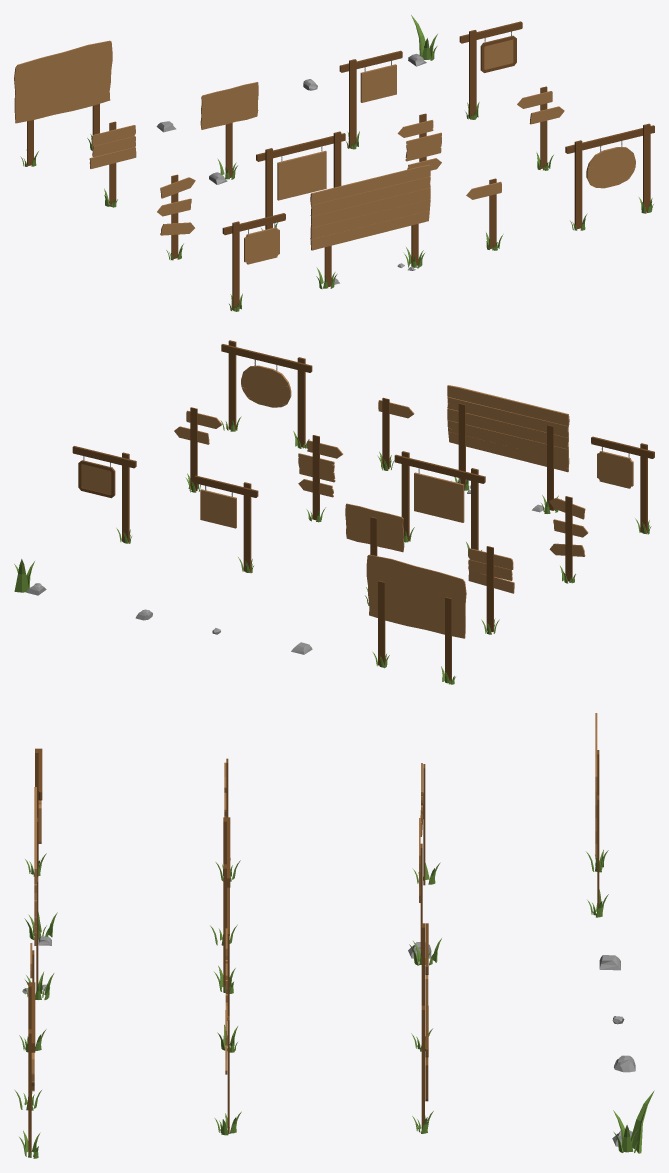
File: lowpoly_wooden_signs.glb
3 renders of one model, top to bottom at view 1: azimuth 30°, elevation 25°; view 2: azimuth 150°, elevation 25°; view 3: azimuth 270°, elevation 25°, orthographic. The views are drawn at different scales.
Visible parts, largest first — view 1: Sign12, Sign8, Sign2, Sign4, Sign11, Sign9, Sign10, Sign13, Sign7, Sign3, Sign5, Sign6 (+2 smaller); view 2: Sign12, Sign8, Sign4, Sign2, Sign9, Sign10, Sign13, Sign11, Sign7, Sign5, Sign3, Sign6 (+2 smaller); view 3: Sign12, Sign2, Sign4, Sign8, Sign10, rock_2, Sign11, Sign9, Sign6, Sign13, Sign7, Sign5.
Boxes of the visible parts, x1,y1,x2,y2 form: Sign12: (310, 164, 430, 289); Sign8: (14, 40, 112, 166); Sign2: (565, 123, 654, 230); Sign4: (256, 131, 345, 230); Sign11: (200, 82, 258, 184); Sign9: (339, 50, 402, 149); Sign10: (459, 21, 522, 119); Sign13: (222, 213, 285, 311); Sign7: (89, 121, 136, 207); Sign3: (157, 174, 195, 260); Sign5: (397, 113, 441, 170); Sign6: (517, 86, 564, 170); Sign12: (447, 385, 569, 513); Sign8: (366, 554, 466, 684); Sign4: (394, 451, 485, 556); Sign2: (220, 340, 312, 448); Sign9: (194, 475, 258, 573); Sign10: (72, 446, 136, 543); Sign13: (591, 436, 654, 534); Sign11: (345, 503, 404, 605); Sign7: (468, 546, 514, 634); Sign5: (298, 435, 343, 522); Sign3: (549, 496, 588, 583); Sign6: (174, 407, 222, 492); Sign12: (22, 787, 57, 999); Sign2: (14, 982, 41, 1158); Sign4: (210, 817, 237, 993); Sign8: (586, 713, 608, 917); Sign10: (412, 1005, 433, 1133); rock_2: (612, 1090, 654, 1153); Sign11: (408, 818, 441, 965); Sign9: (411, 923, 432, 1051); Sign6: (214, 1010, 241, 1135); Sign13: (25, 748, 46, 876); Sign7: (412, 763, 440, 885); Sign5: (217, 928, 237, 1052).
Bounding box in the file's own units: 11.2 × 2.56 × 9.85.
